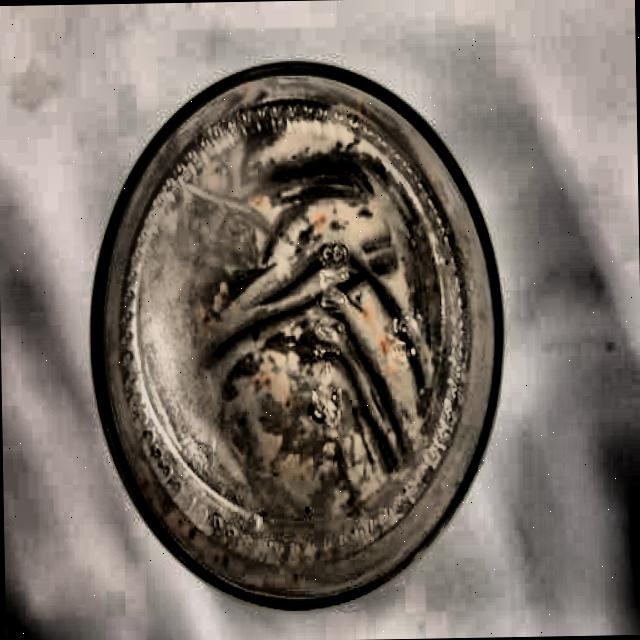glass: (84, 56, 508, 613)
